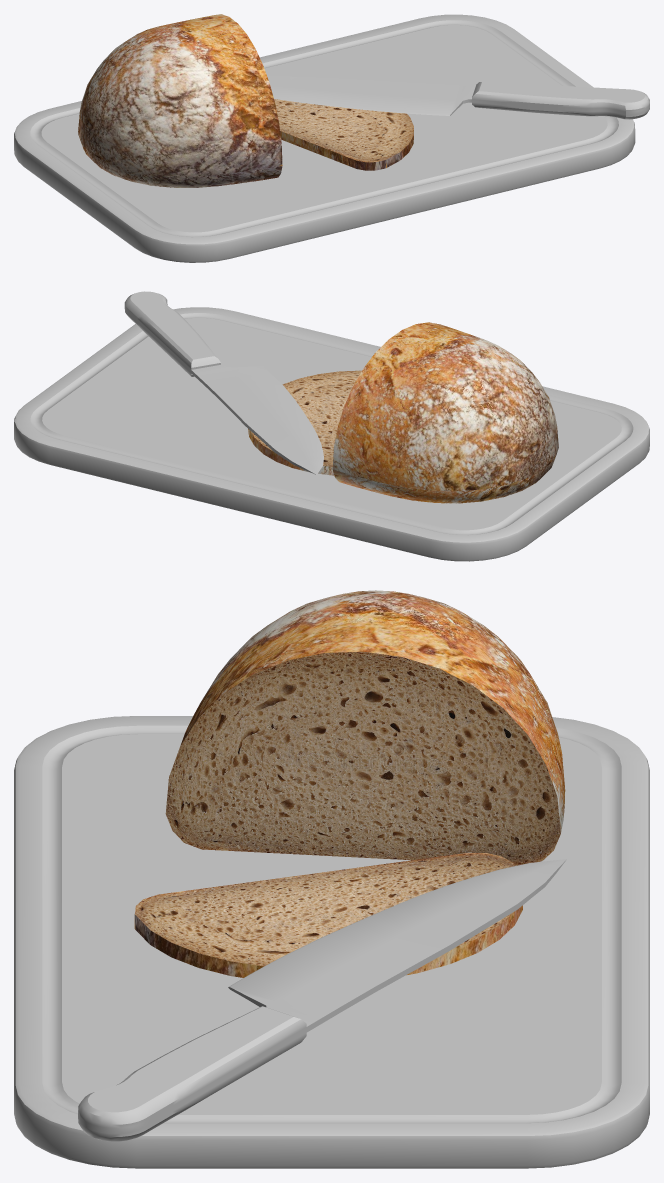
File: Kitchen_bread_and knife.fbx
3 renders of one model, top to bottom at view 1: azimuth 30°, elevation 25°; view 2: azimuth 150°, elevation 25°; view 3: azimuth 270°, elevation 25°, orthographic. The views are drawn at different scales.
Visible parts, largest first — view 1: wooden board, bread, Kitchen.tools.knife, bread.slice; view 2: wooden board, bread, Kitchen.tools.knife, bread.slice; view 3: wooden board, bread, Kitchen.tools.knife, bread.slice.
Part boxes in pixels (x1,y1,x2,y2): wooden board: (14,14,635,262); bread: (78,14,282,187); Kitchen.tools.knife: (267,76,649,119); bread.slice: (274,99,413,170); wooden board: (14,307,649,561); bread: (332,322,558,503); Kitchen.tools.knife: (124,291,323,474); bread.slice: (248,370,361,475); wooden board: (14,716,649,1168); bread: (165,590,565,865); Kitchen.tools.knife: (78,859,566,1141); bread.slice: (134,852,522,977).
Size of the model in its own units: 227 by 58.9 by 141.
